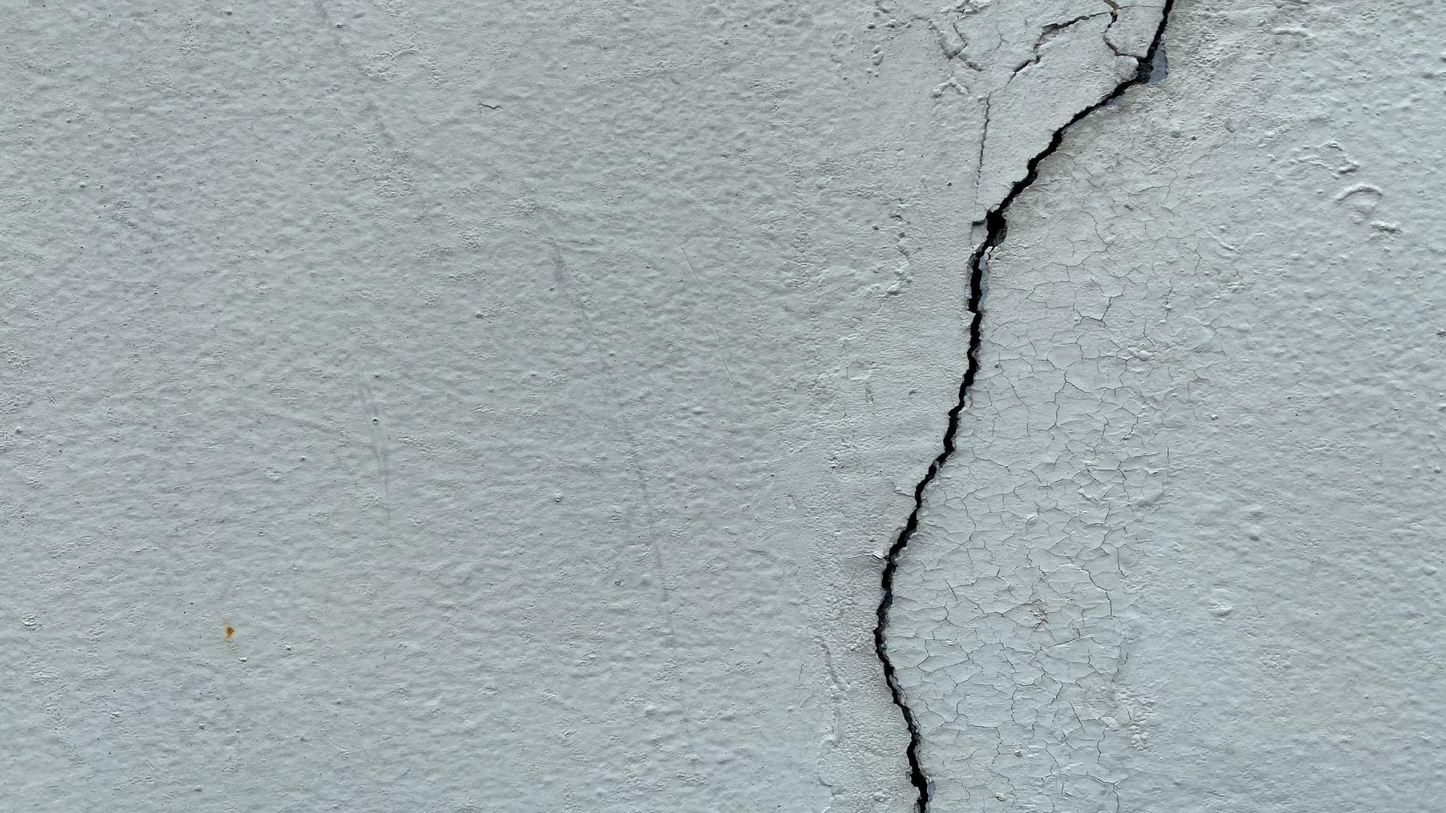crack: (870, 2, 1179, 808)
